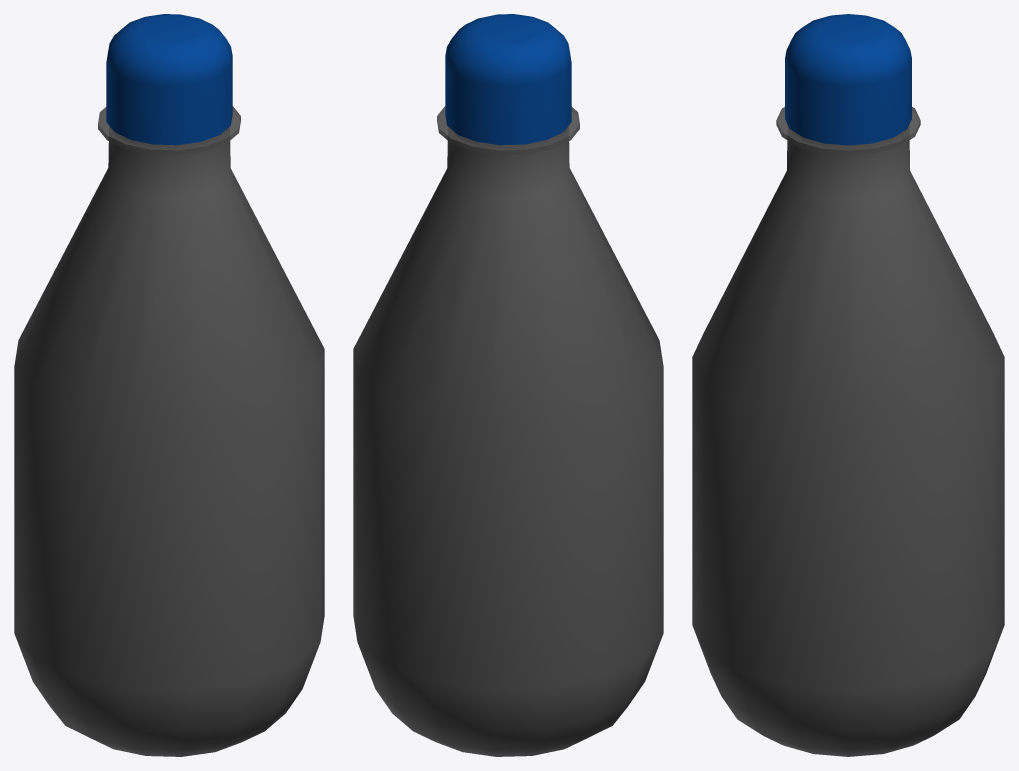
File: bottle.fbx
3 renders of one model, left to right at view 1: azimuth 30°, elevation 25°; view 2: azimuth 150°, elevation 25°; view 3: azimuth 270°, elevation 25°, orthographic.
Parts seen in each view (by area): view 1: pCylinder1, pCylinder2; view 2: pCylinder1, pCylinder2; view 3: pCylinder1, pCylinder2.
Part boxes in pixels (x1=…): pCylinder1: x1=14, y1=106, x2=324, y2=756; pCylinder2: x1=106, y1=14, x2=232, y2=145; pCylinder1: x1=353, y1=106, x2=663, y2=756; pCylinder2: x1=445, y1=14, x2=571, y2=145; pCylinder1: x1=692, y1=107, x2=1004, y2=756; pCylinder2: x1=785, y1=14, x2=911, y2=145.
Size of the model in its own units: 4.14 by 10.16 by 4.14.
